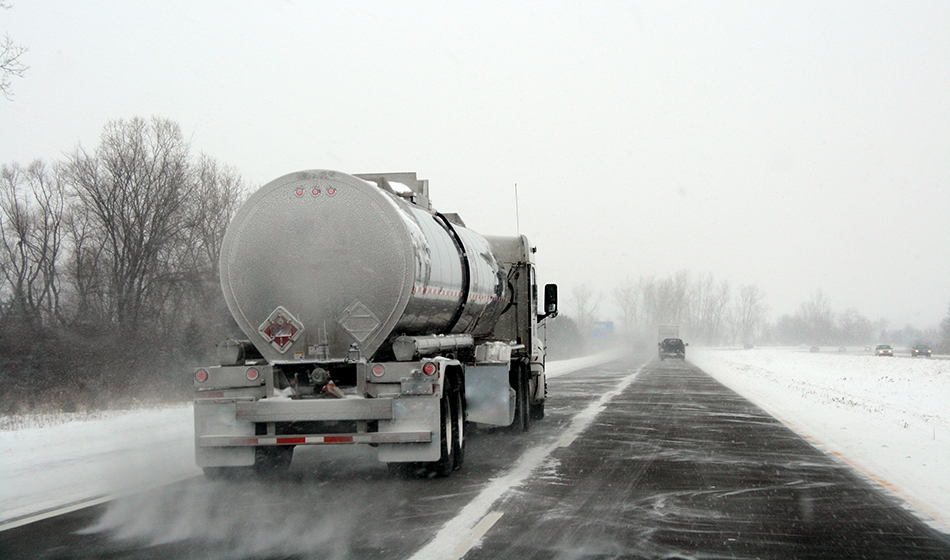car: (655, 337, 692, 365)
truck: (189, 165, 561, 477)
